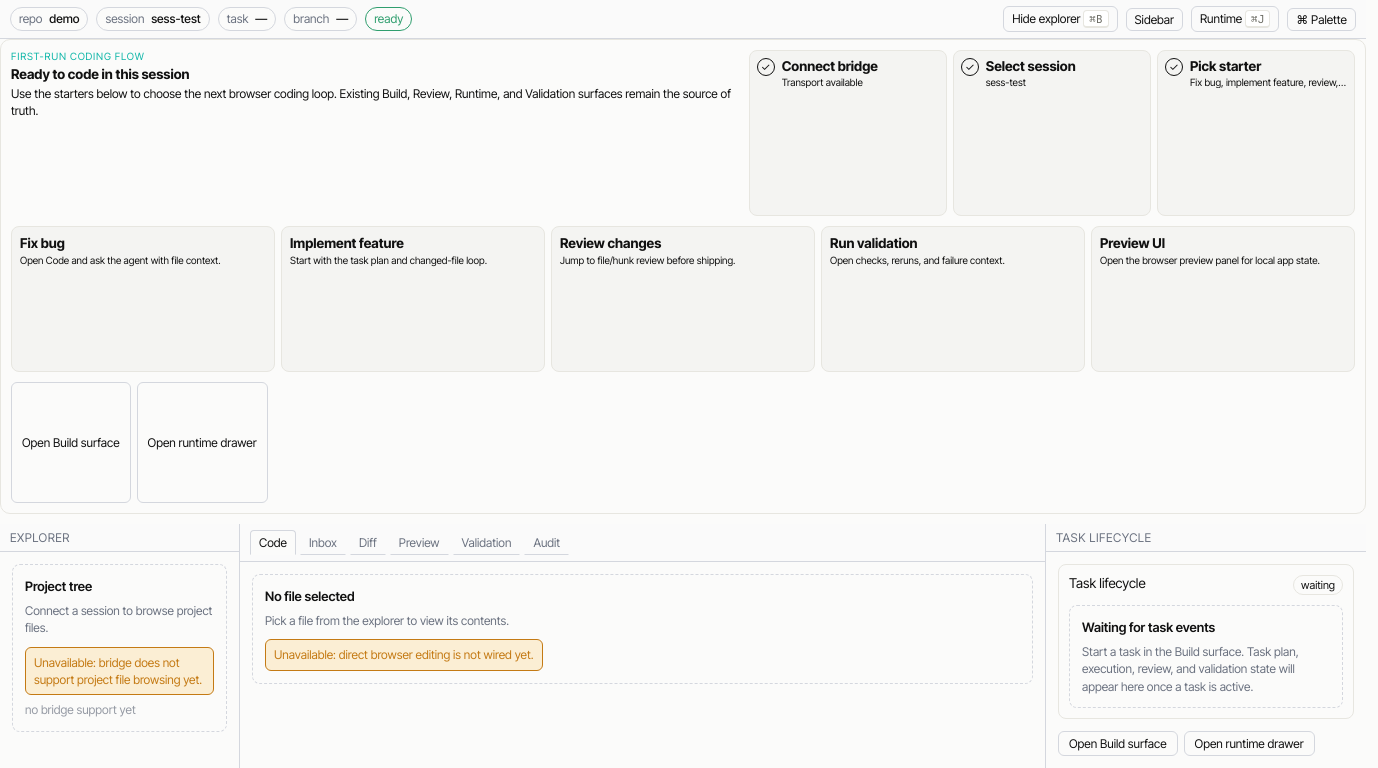
Test: CodeWorkspace shell › switches center tabs between Code, Diff and Preview
Click the tab "Diff".
click(368, 542)  # box [350, 530, 386, 555]
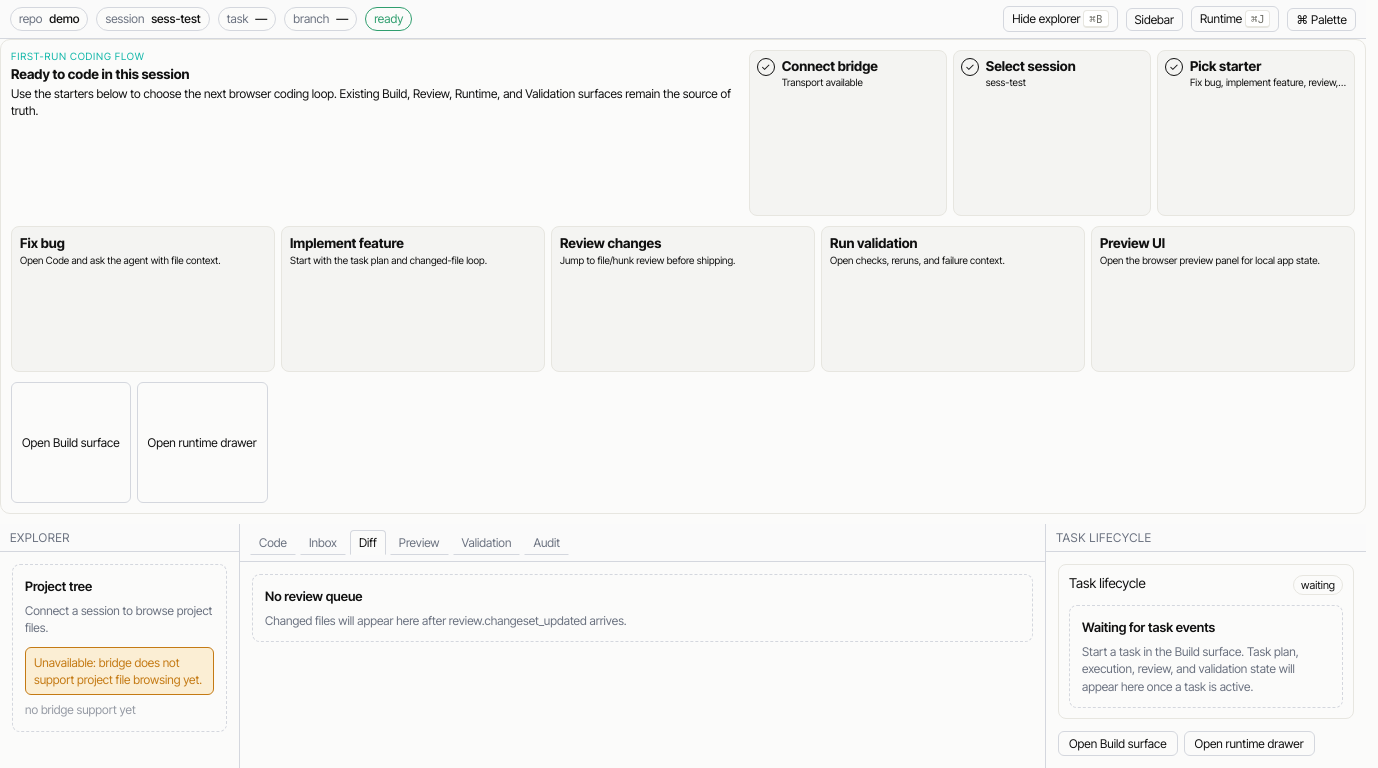
Expected: the message with test id "review-queue-empty" is shown, [252, 574, 1033, 642]
Click the tab "Preview".
click(419, 542)  # box [390, 530, 448, 555]
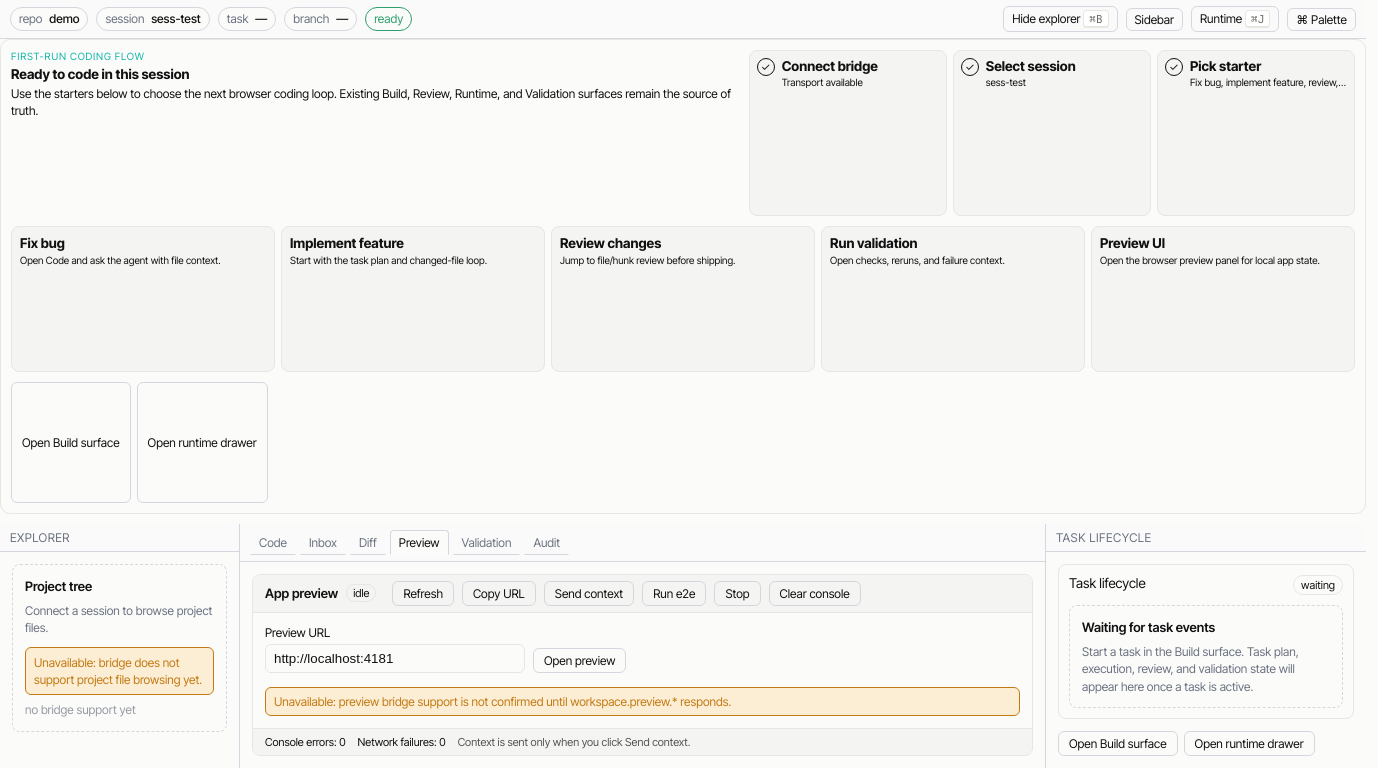
Expected: the element with test id "preview-panel" is shown, [252, 574, 1033, 756]
Expected: the text "preview bridge support is not confirmed" is shown, [274, 694, 731, 709]
Click the tab "Validation".
click(486, 542)  # box [452, 530, 520, 555]
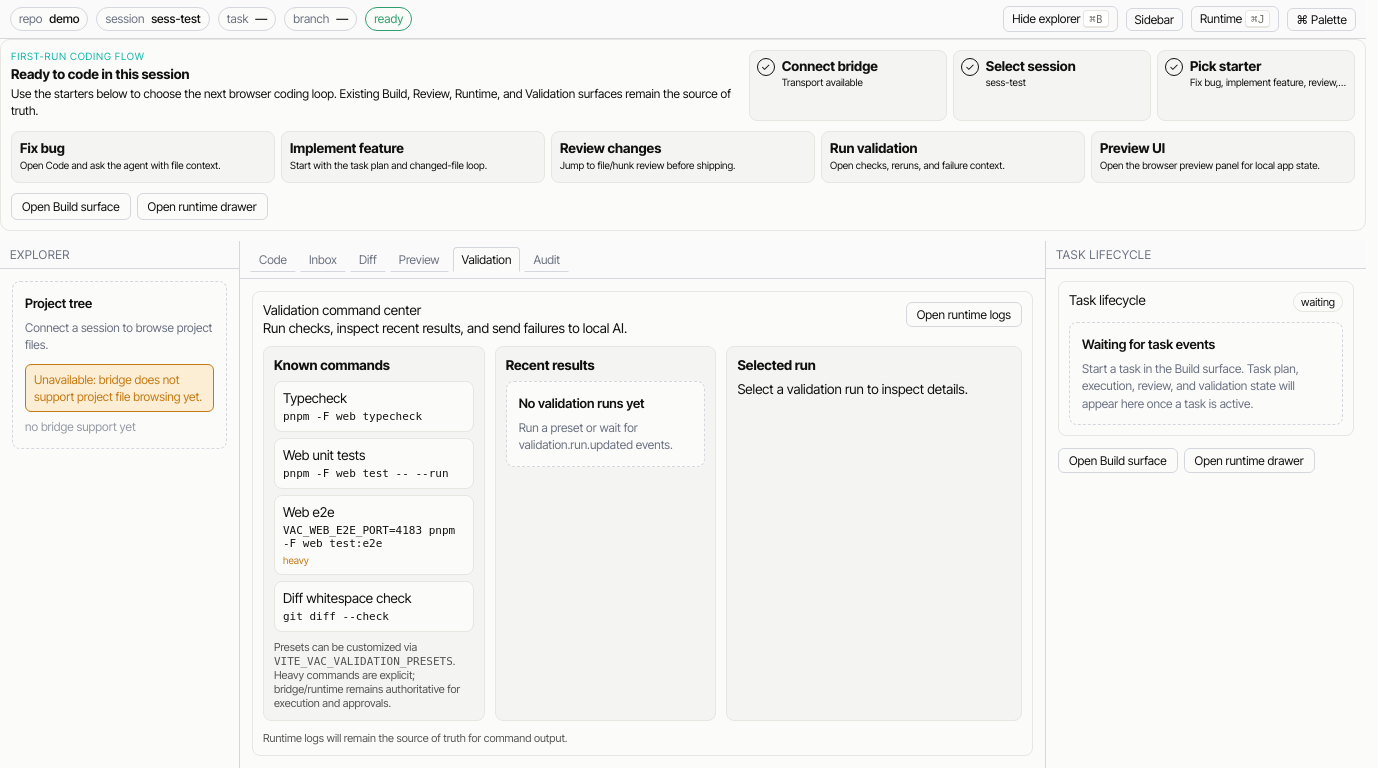
Expected: the element with test id "validation-panel" is shown, [252, 291, 1033, 756]
